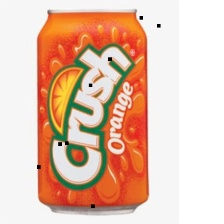can: (32, 4, 152, 217)
